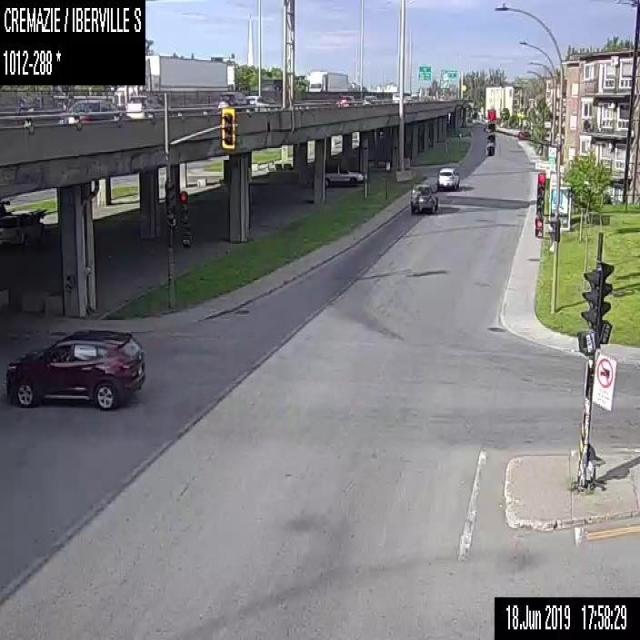vehicle: (4, 328, 146, 411), (110, 54, 234, 108), (56, 97, 123, 125), (125, 94, 171, 120), (307, 70, 348, 96), (324, 161, 364, 187), (409, 180, 436, 215), (216, 90, 252, 111), (437, 165, 458, 190), (245, 93, 269, 110), (392, 91, 411, 104), (336, 94, 356, 106), (362, 94, 378, 104), (518, 130, 530, 138)
